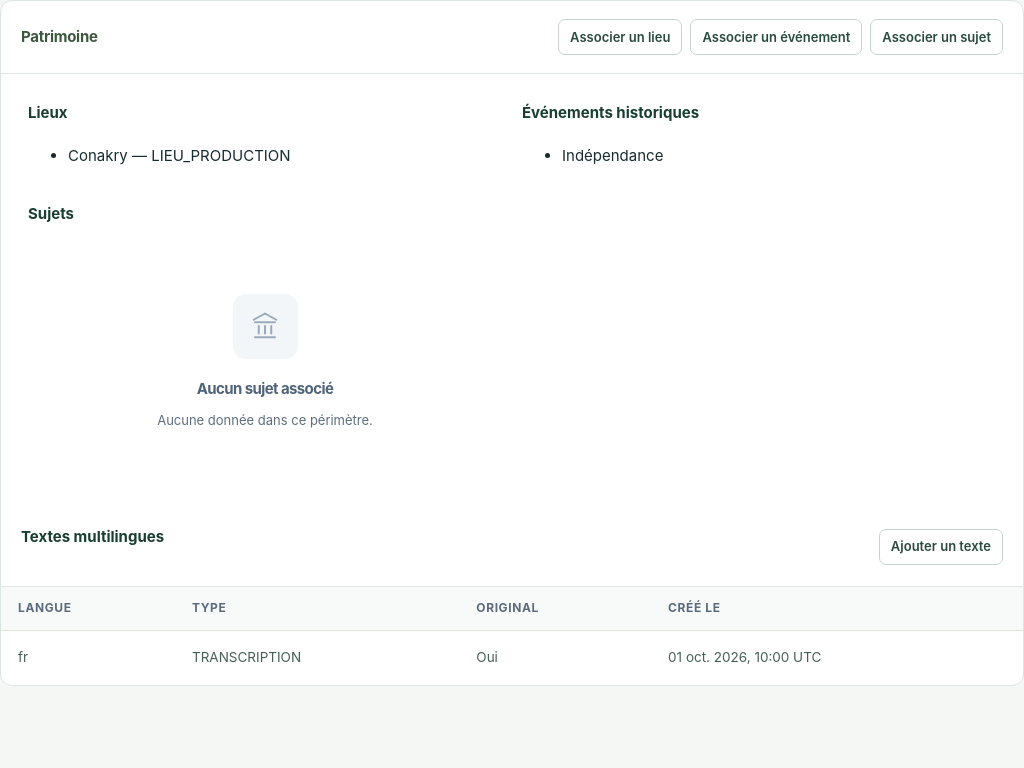
Test case: un refus du serveur à l’association est dit dans la fenêtre, qui reste ouverte
The width and height of the screenshot is (1024, 768).
Click the button "Associer un lieu" at (620, 37), box left=558, top=19, right=682, bottom=55
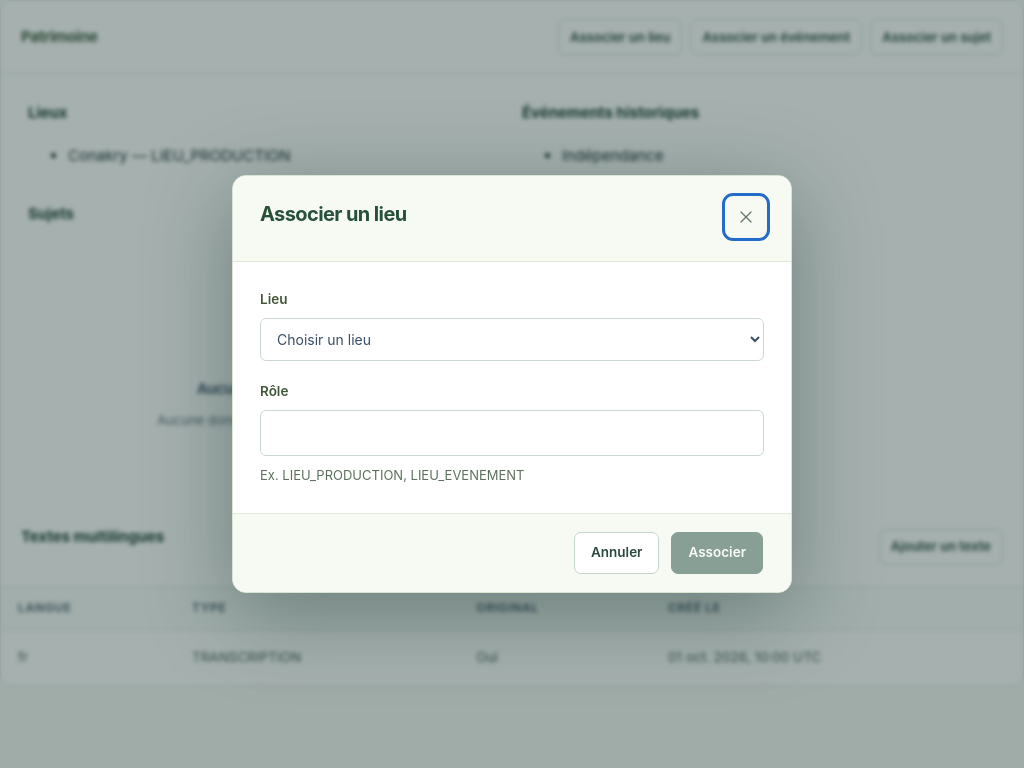
Select "Conakry" in the dropdown labelled "Lieu" at (512, 340), box left=260, top=318, right=764, bottom=361
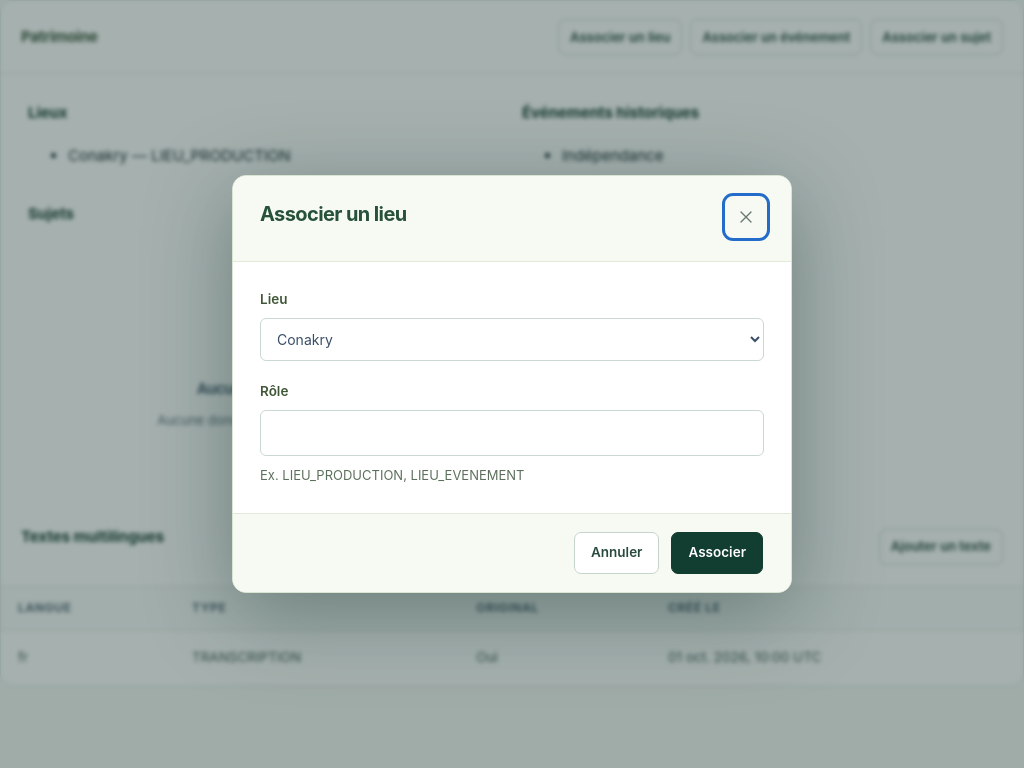
Type "LIEU_PRODUCTION" into the field labelled "Rôle Ex. LIEU_PRODUCTION, LIEU_EVENEMENT" at (512, 433), box left=260, top=410, right=764, bottom=456
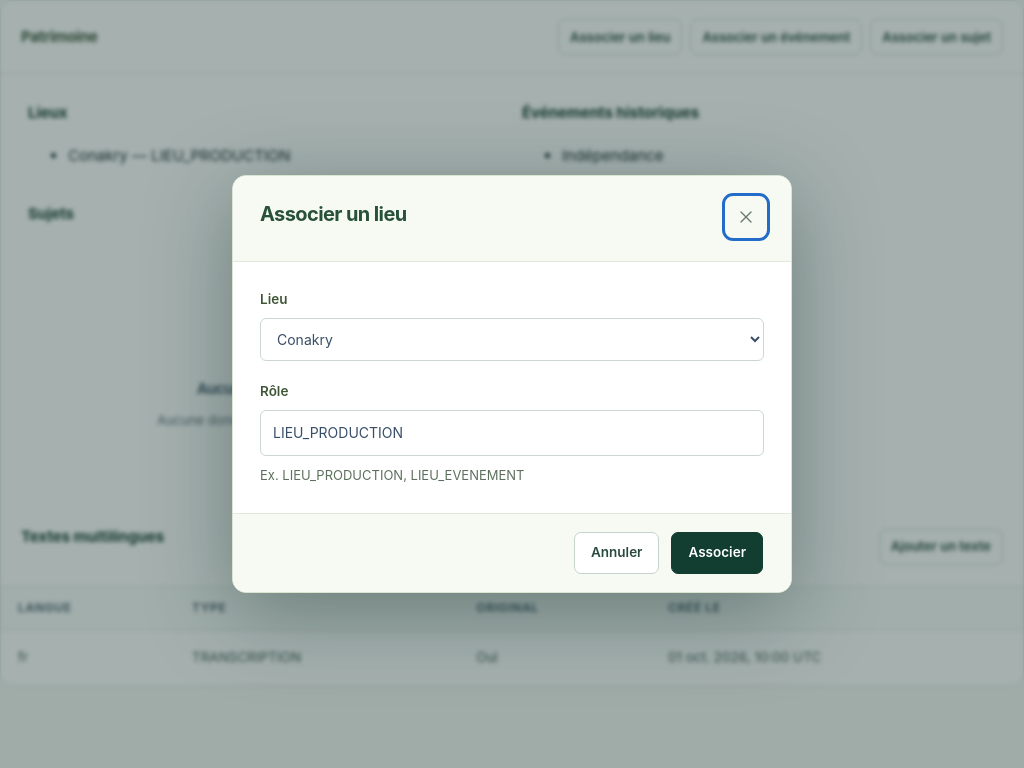
Click the button "Associer" at (717, 553), box left=672, top=532, right=763, bottom=574
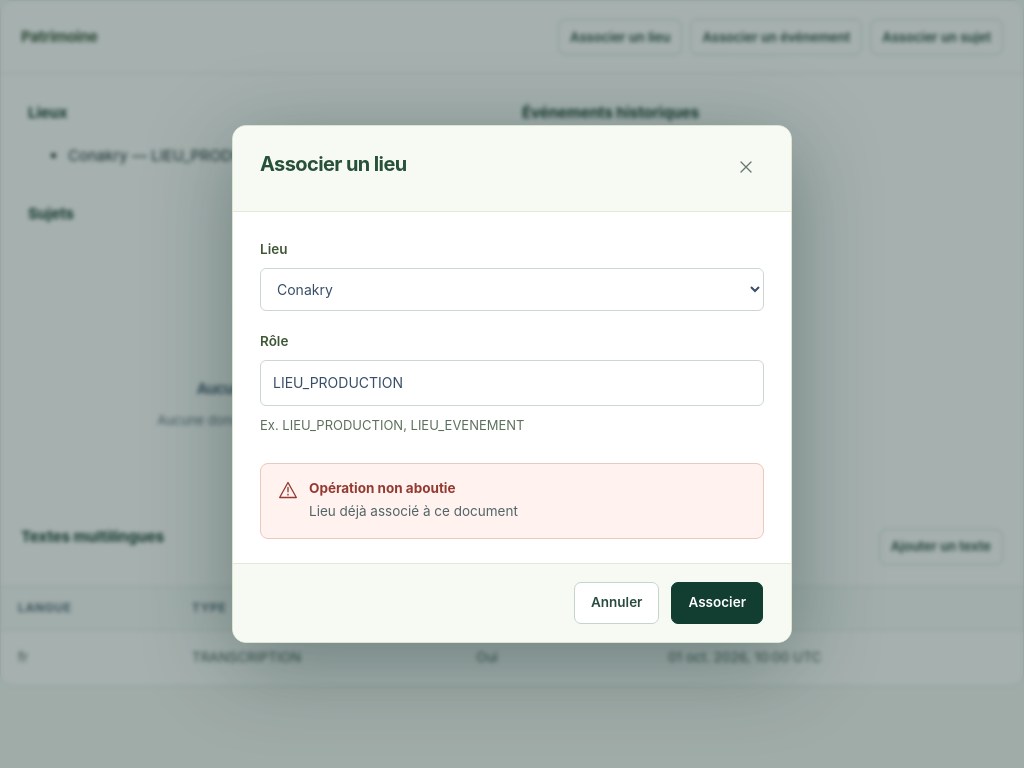
Now the dialog "Associer un lieu" is shown, box left=232, top=125, right=792, bottom=643
Now the text "Lieu déjà associé à ce document" is shown, box left=309, top=500, right=518, bottom=524
